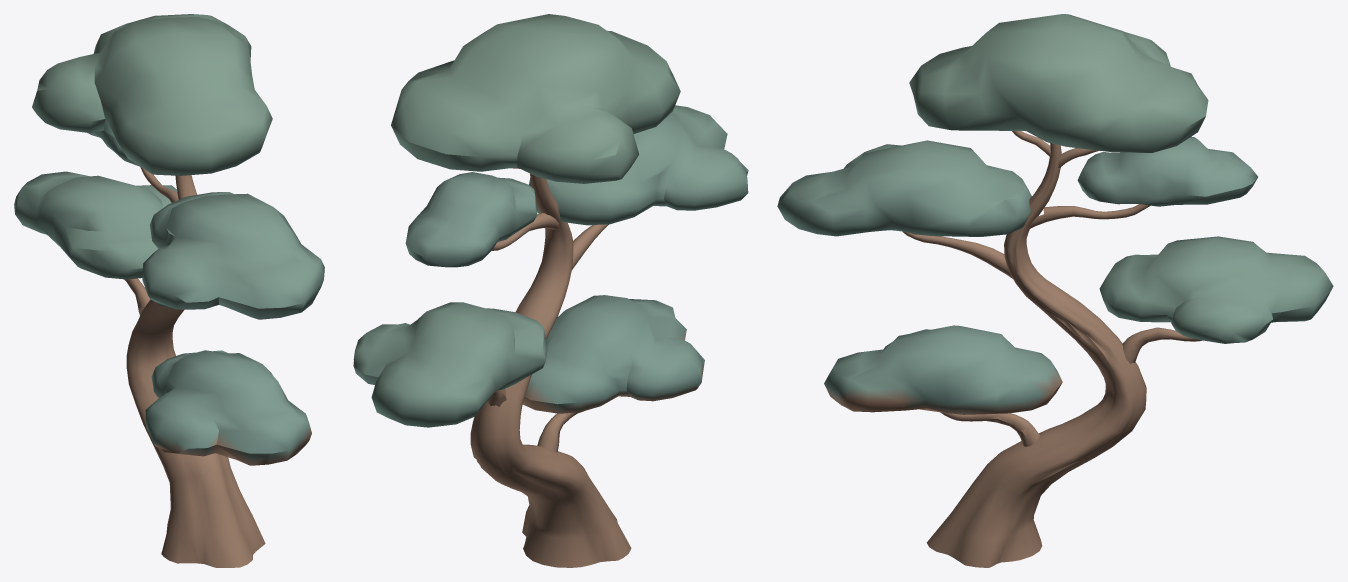
File: common_pine.glb
3 renders of one model, left to right at view 1: azimuth 30°, elevation 25°; view 2: azimuth 150°, elevation 25°; view 3: azimuth 270°, elevation 25°, orthographic. The views are drawn at different scales.
Visible parts, largest first — view 1: asset; view 2: asset; view 3: asset.
Boxes of the visible parts, left/top/right/bottom form: asset: left=14, top=14, right=324, bottom=567; asset: left=353, top=14, right=748, bottom=567; asset: left=777, top=14, right=1333, bottom=567.
Size of the model in its own units: 0.4343 by 1 by 0.9795.
